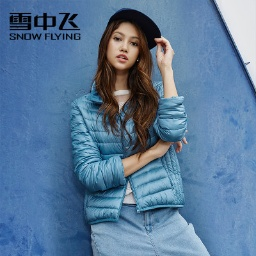face: (97, 22, 156, 107)
